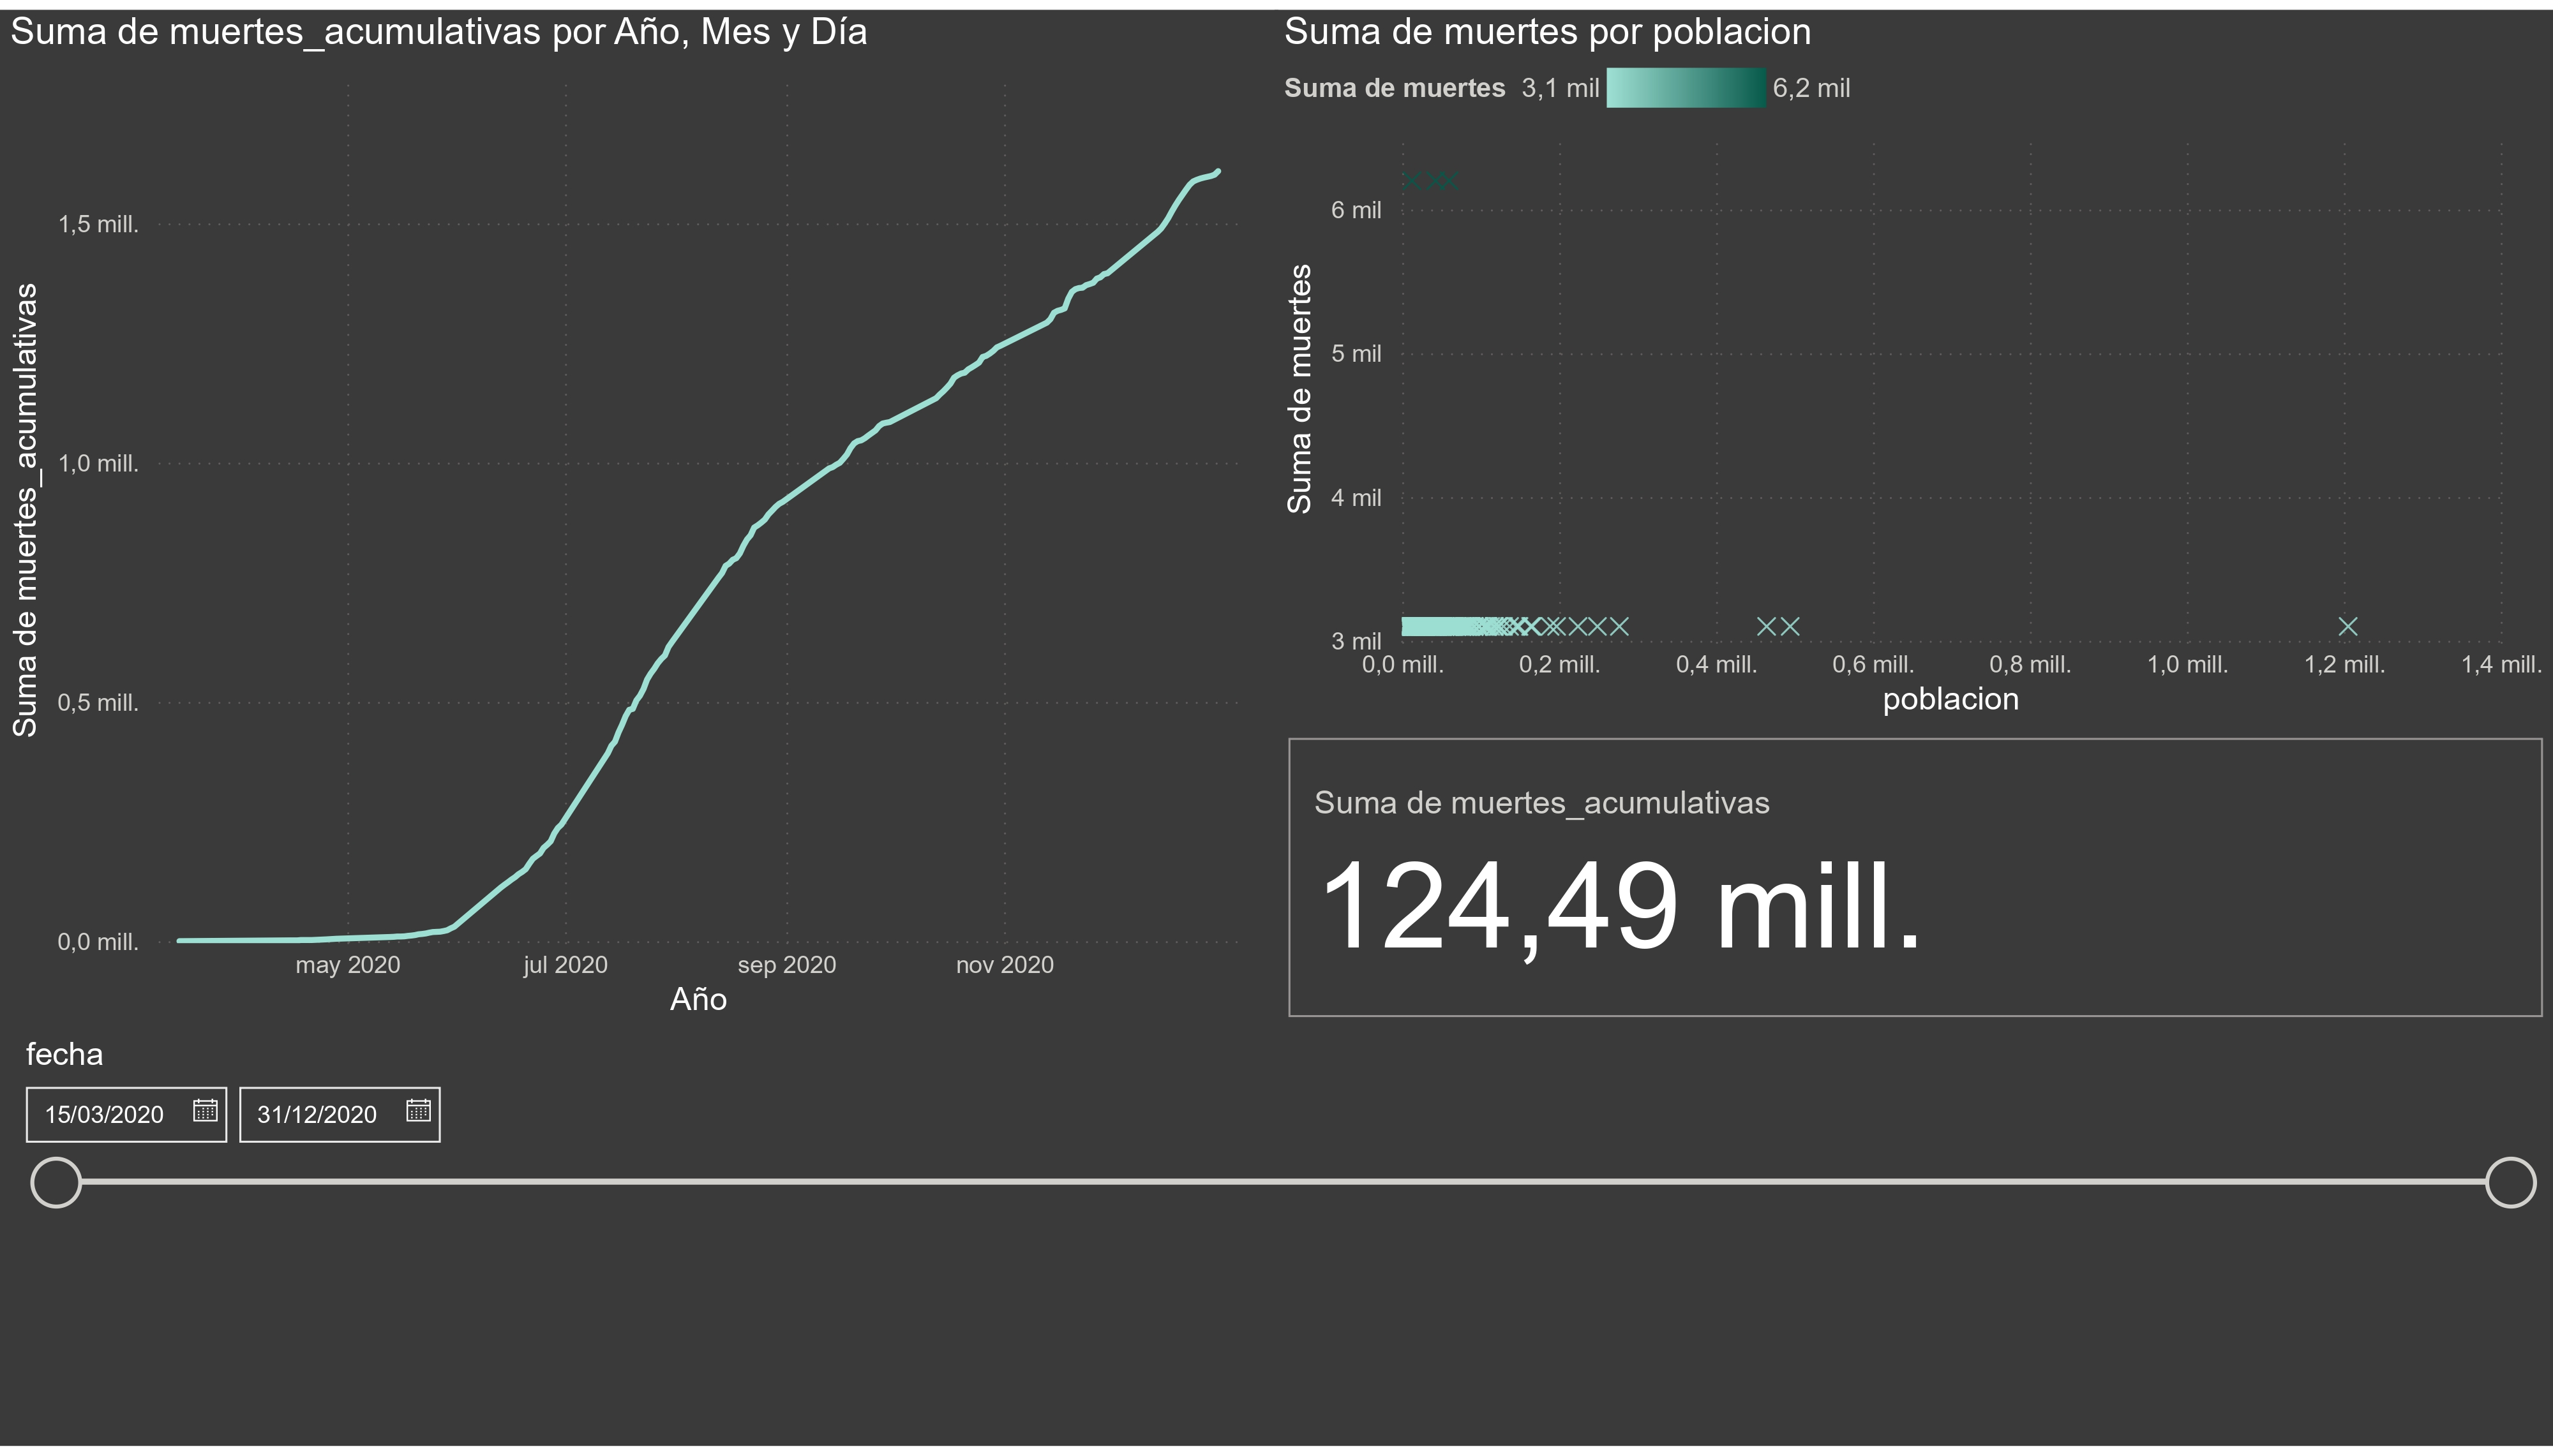

The page's visual inventory and layout, read from the dashboard file:
{"tool":"powerbi","page":{"name":"Página 2","canvas":[1280,720],"ordinal":1},"visuals":[{"type":"lineChart","fields":{"Y":["Sum(DatosCovid.muertes_acumulativas)"],"Category":["DatosCovid.fecha.Variación.Jerarquía de fechas.Año","DatosCovid.fecha.Variación.Jerarquía de fechas.Mes","DatosCovid.fecha.Variación.Jerarquía de fechas.Día"]},"box":[0,0,640.8,509.9],"z":0},{"type":"slicer","fields":{"Values":["DatosCovid.fecha"]},"box":[0,509.9,1280.3,210.3],"z":1000},{"type":"scatterChart","fields":{"Y":["Sum(DatosCovid.muertes)"],"X":["Municipio.poblacion"]},"box":[639.5,0,640.8,359.6],"z":2000},{"type":"cardVisual","fields":{"Data":["Sum(DatosCovid.muertes_acumulativas)"]},"box":[640.8,359.6,639.5,150.7],"z":2001}]}

Visuals, with their boxes in screenshot pixels (x1, y1, x2, y2), scaled from the page's 1280x720 canvas onto the 2553x1456 screenshot:
lineChart - Sum(DatosCovid.muertes_acumulativas) x DatosCovid.fecha.Variación.Jerarquía de fechas.Año: region(0, 0, 1278, 1031)
slicer - DatosCovid.fecha: region(0, 1031, 2552, 1455)
scatterChart - Sum(DatosCovid.muertes) x Municipio.poblacion: region(1275, 0, 2552, 727)
cardVisual - Sum(DatosCovid.muertes_acumulativas): region(1278, 727, 2552, 1032)
